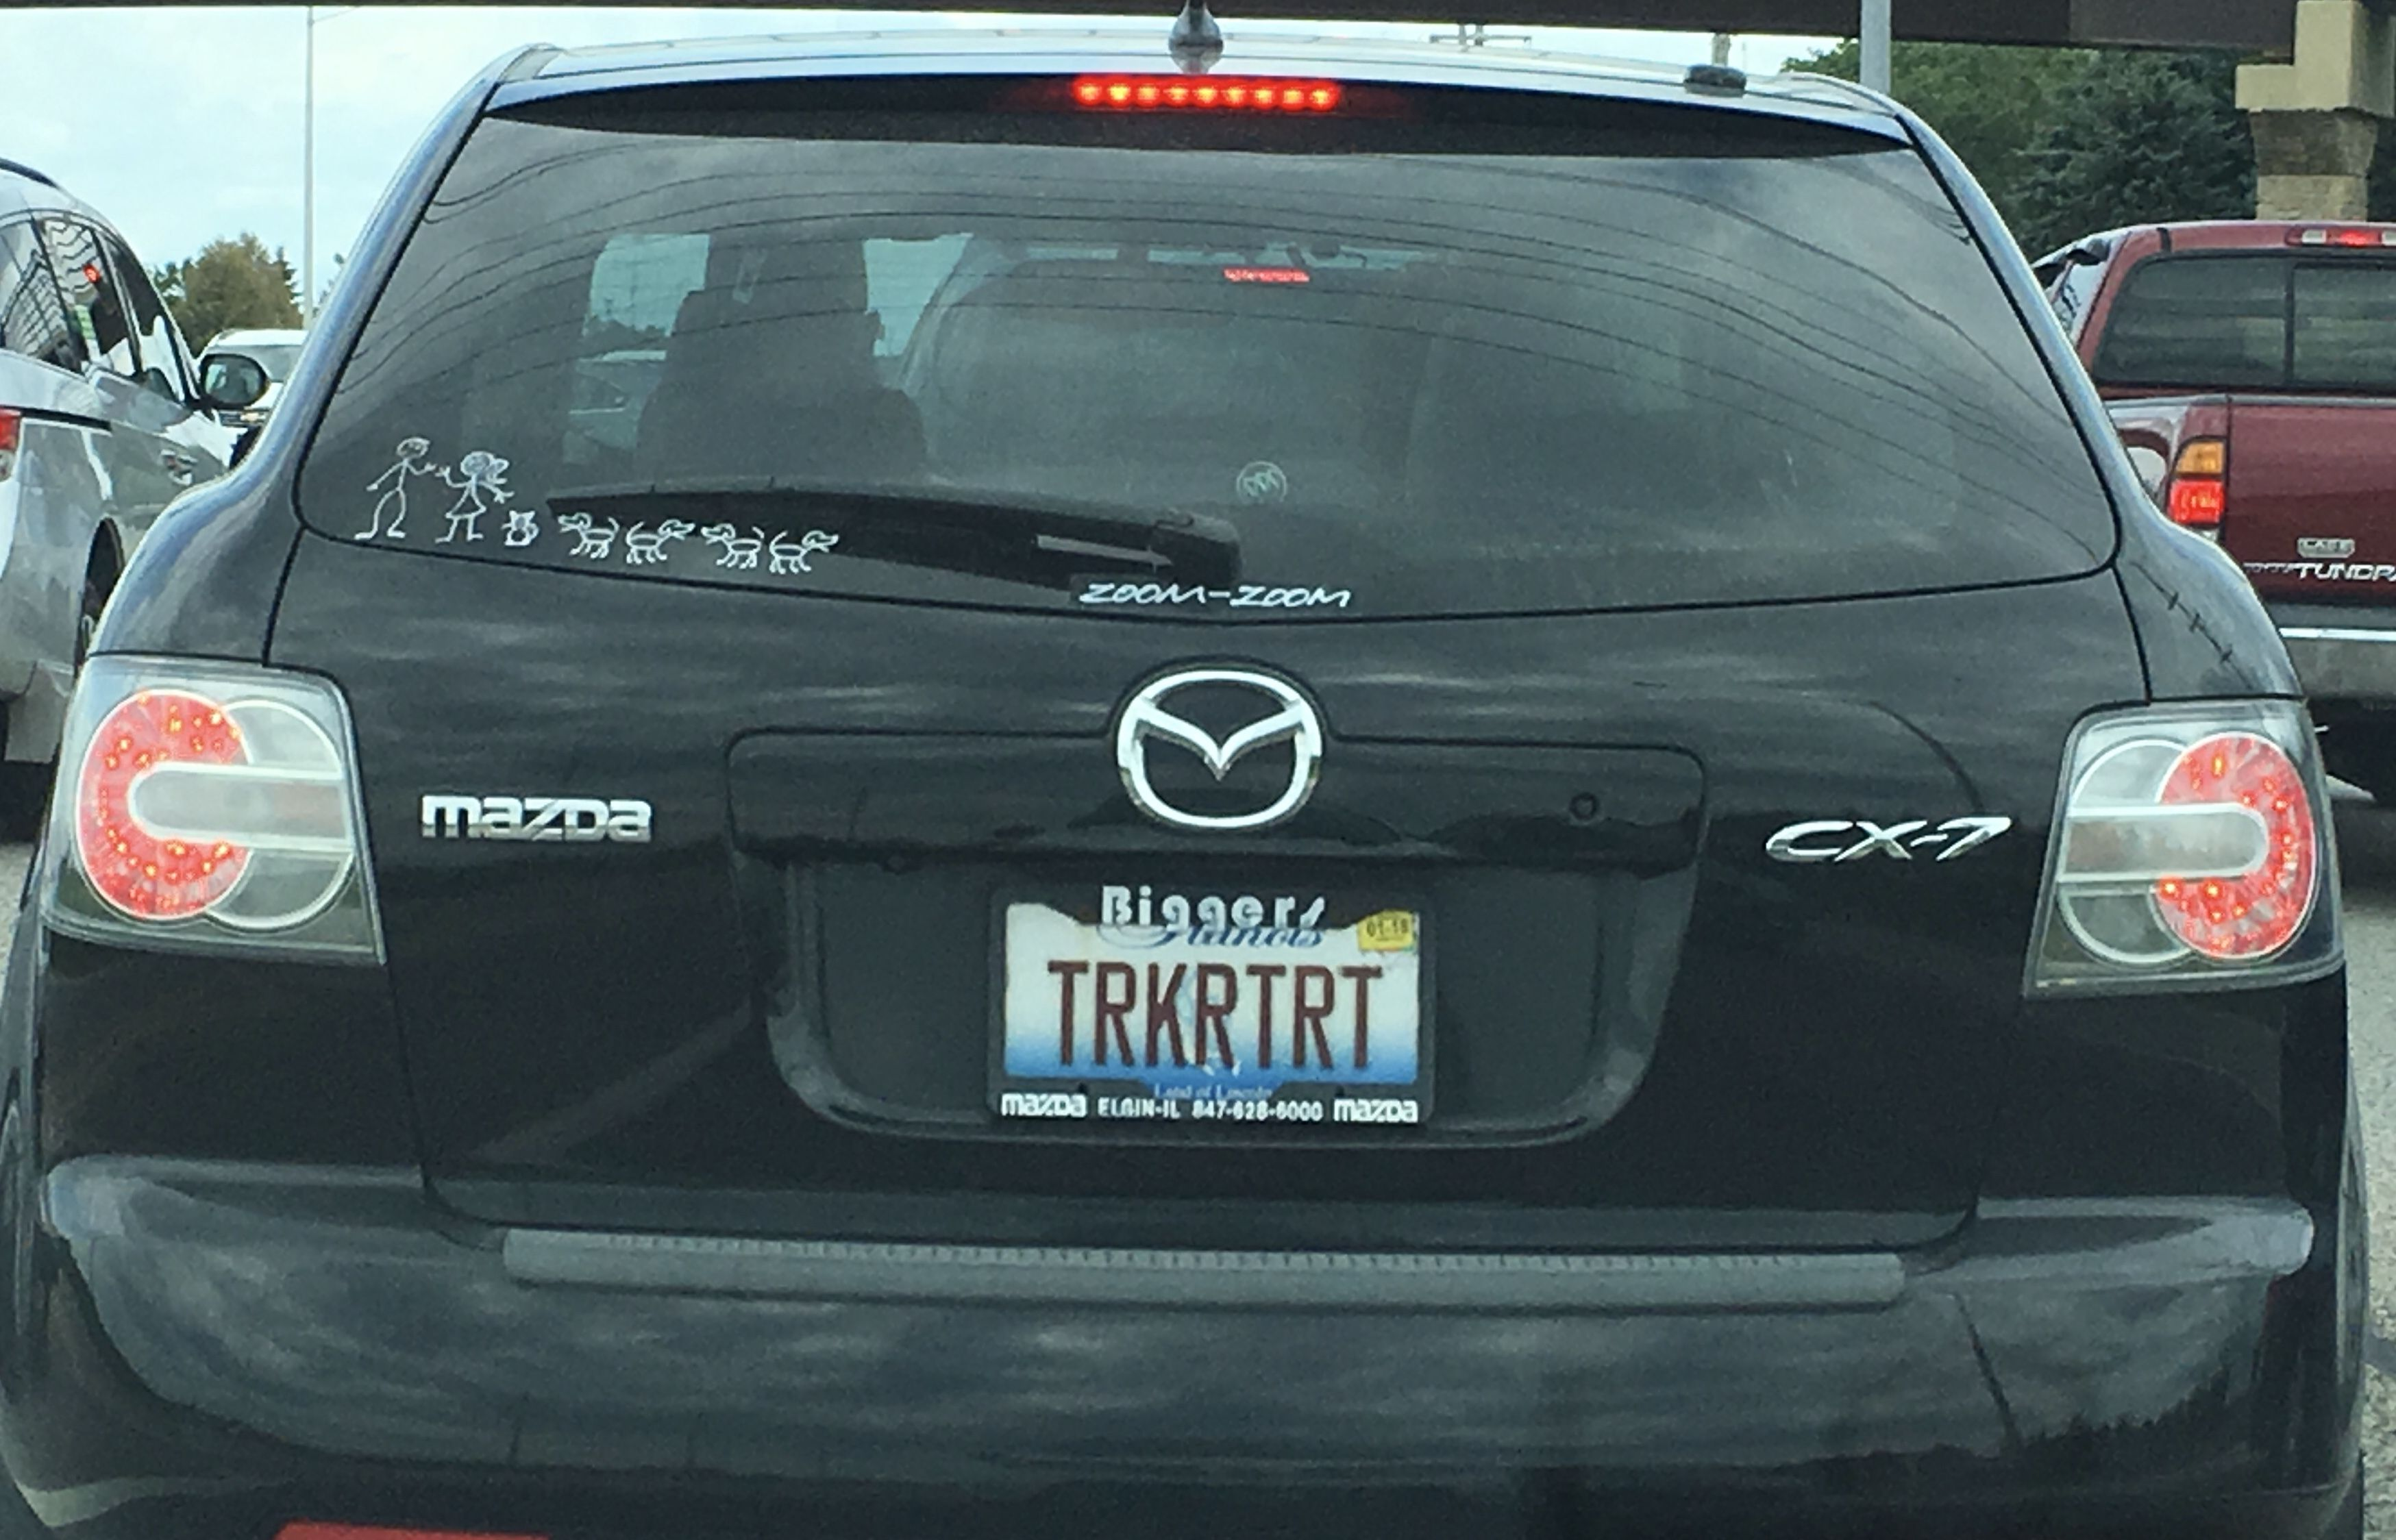number_plates: (1005, 915, 1416, 1082)
